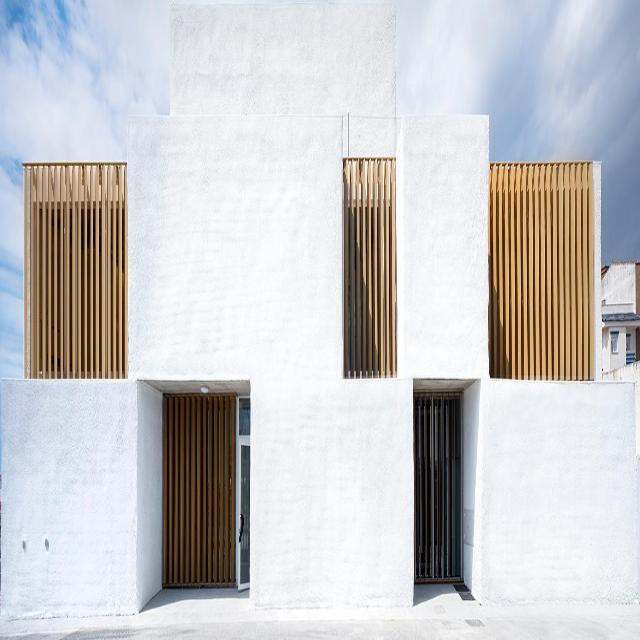door: (236, 395, 250, 592)
wall: (0, 5, 640, 615)
